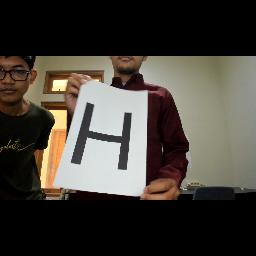h: (68, 101, 134, 175)
